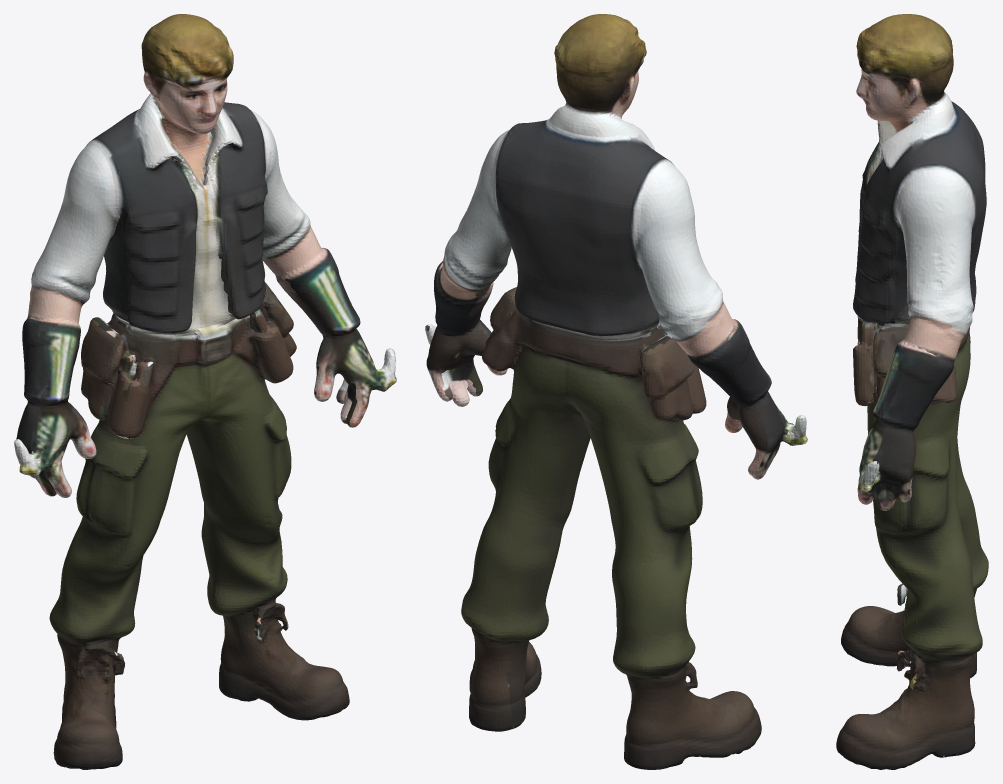
Rendered from oren.glb.
3 views of the same model, side by side, from view 1: azimuth 30°, elevation 25°; view 2: azimuth 150°, elevation 25°; view 3: azimuth 270°, elevation 25° (orthographic). The views are drawn at different scales.
Visible parts, largest first — view 1: tmp7unq5ja6.ply; view 2: tmp7unq5ja6.ply; view 3: tmp7unq5ja6.ply.
Boxes of the visible parts, x1,y1,x2,y2 form: tmp7unq5ja6.ply: [14, 14, 396, 769]; tmp7unq5ja6.ply: [425, 14, 807, 769]; tmp7unq5ja6.ply: [836, 14, 988, 769].
Size of the model in its own units: 1.12 by 1.99 by 0.3986.
1 material, 1 textured.
